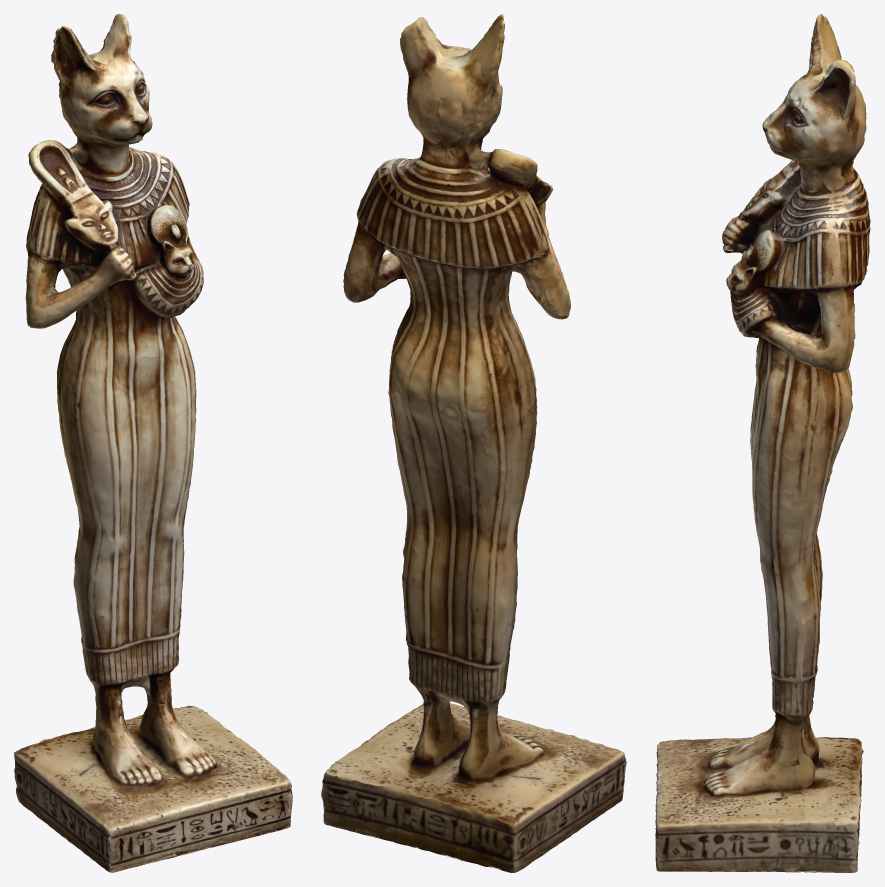
The model's file is statue_of_bastet.glb.
3 views of the same model, side by side, from view 1: azimuth 30°, elevation 25°; view 2: azimuth 150°, elevation 25°; view 3: azimuth 270°, elevation 25° (orthographic). The views are drawn at different scales.
Visible parts, largest first — view 1: Sekhmet_0; view 2: Sekhmet_0; view 3: Sekhmet_0.
Part boxes in pixels (x1=…): Sekhmet_0: x1=14, y1=14, x2=292, y2=872; Sekhmet_0: x1=321, y1=14, x2=626, y2=872; Sekhmet_0: x1=655, y1=14, x2=870, y2=872.
Bounding box in the file's own units: 0.083 × 0.31 × 0.0767.
2 materials, 1 textured.
